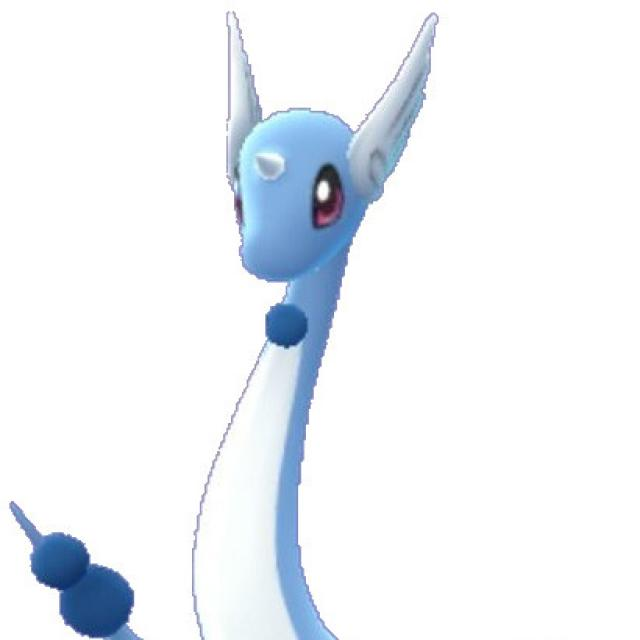Dragonair: (192, 14, 444, 640)
